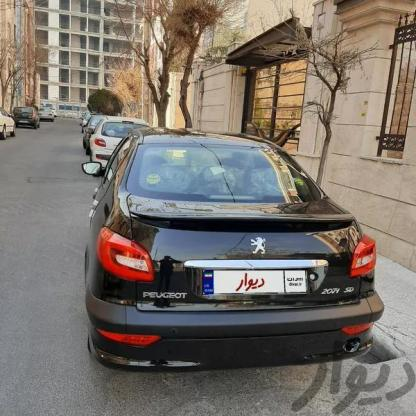Car: (78, 123, 393, 373), (85, 116, 157, 163), (9, 104, 42, 132), (0, 110, 27, 141), (37, 104, 54, 118)
